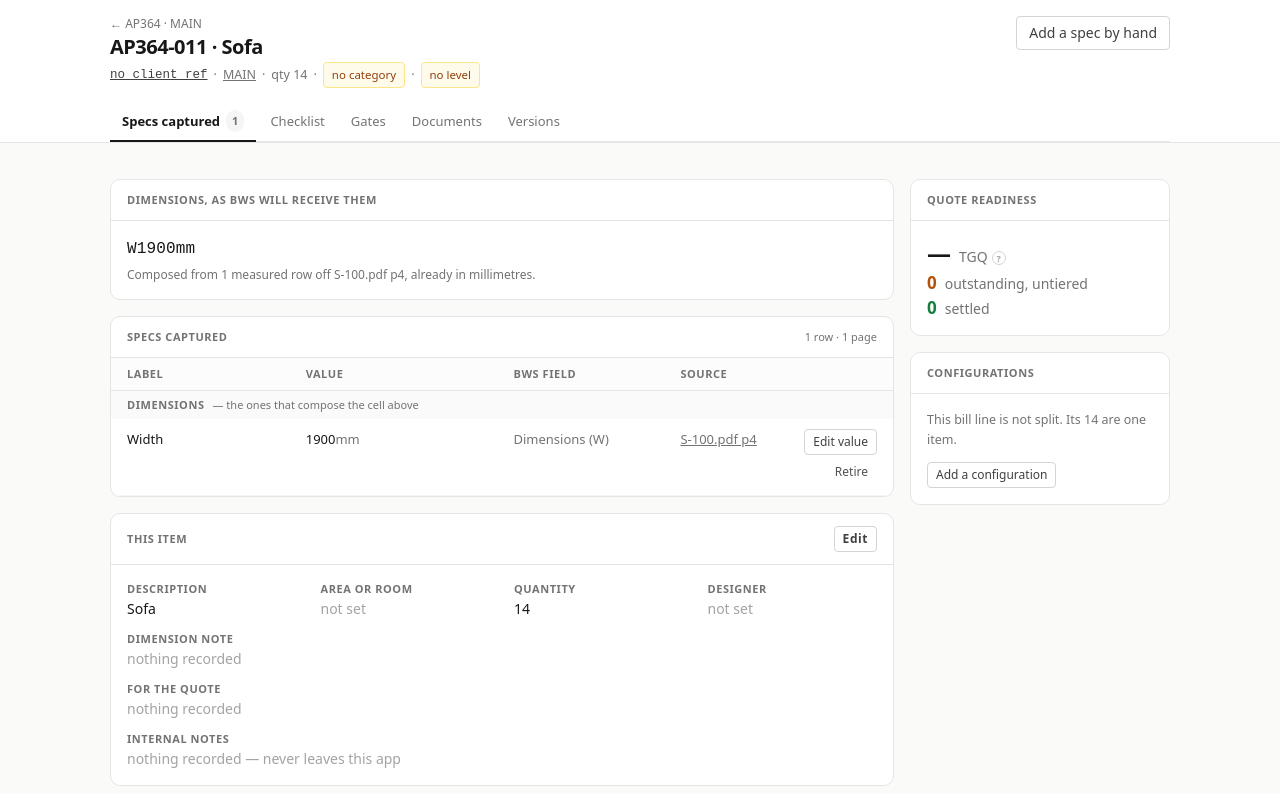
Test case: correcting a spec from the record › opens filled in with what the row currently says
Click the button "Edit value" at (841, 442), box [804, 429, 877, 455]
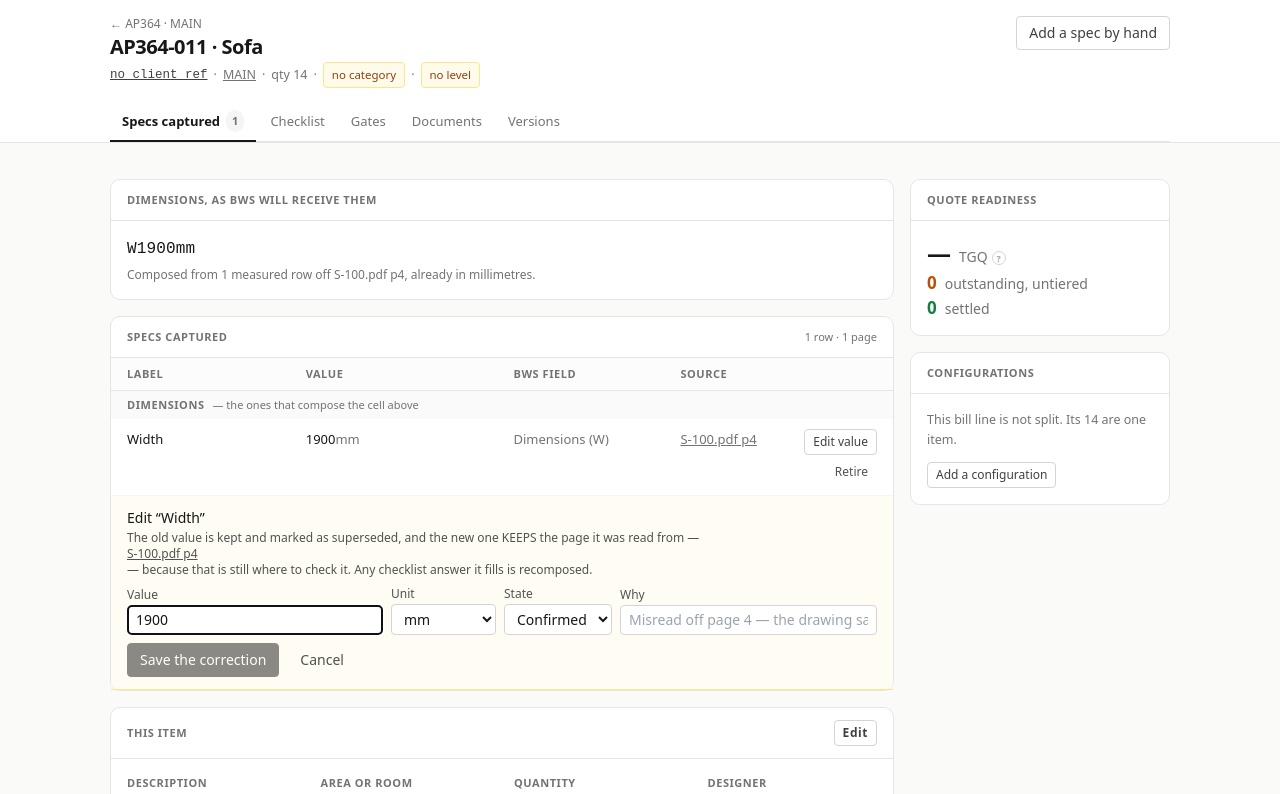
Check: the field labelled "Value" holds "1900", box [127, 605, 383, 635]
Check: the dropdown labelled "Unit" shows "mm", box [391, 604, 496, 635]
Check: the dropdown labelled "State" shows "Confirmed", box [504, 604, 612, 635]
